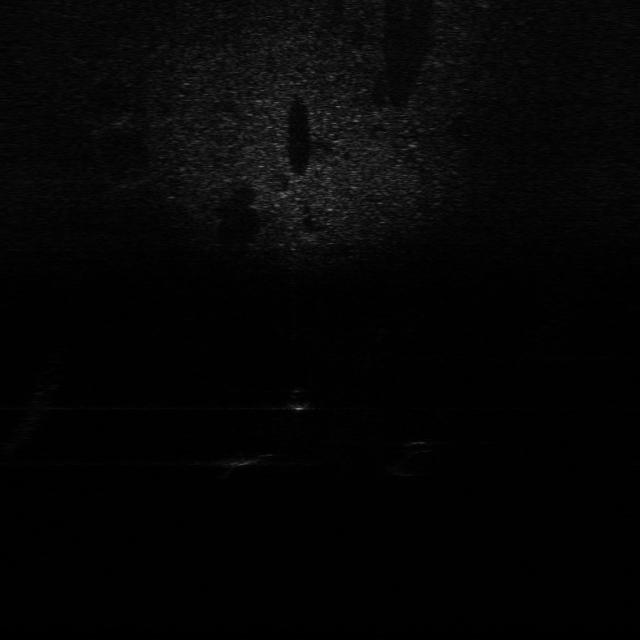ball: (282, 387, 317, 410)
square cage: (216, 446, 280, 470)
tyre: (386, 437, 452, 477)
